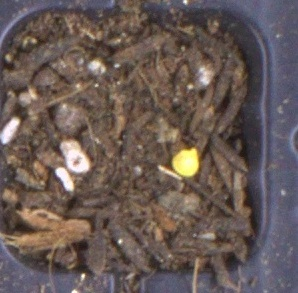chilli seed: (171, 147, 200, 178)
